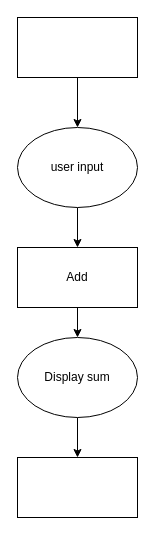
Some shapes in this 155 by 535 pixel diagram are drawn without their labels. The shapes that lost their labels are listed below. From the top down, each one's box as (x1, y1, x2, y2) in pixels, then its label:
(16, 16, 138, 78): start
(16, 456, 138, 518): End
